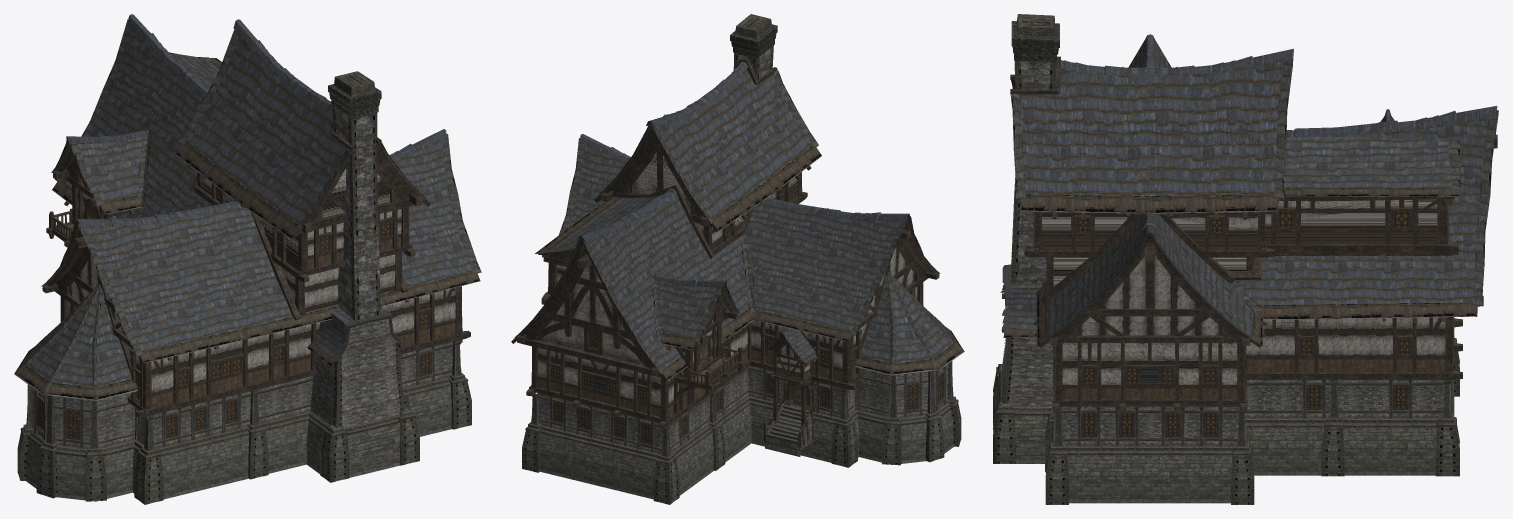
File: eso_gu2_LargeInn_InteriorCombined-transformed.glb
3 renders of one model, left to right at view 1: azimuth 30°, elevation 25°; view 2: azimuth 150°, elevation 25°; view 3: azimuth 270°, elevation 25°, orthographic. The views are drawn at different scales.
Parts seen in each view (by area): view 1: default; view 2: default; view 3: default.
Part boxes in pixels (x1,y1,x2,y2): default: [14, 14, 481, 504]; default: [511, 14, 964, 504]; default: [993, 14, 1498, 504].
Bounding box in the file's own units: 55.6 × 48.29 × 52.72.
Materials: 12 (12 with a texture image).
